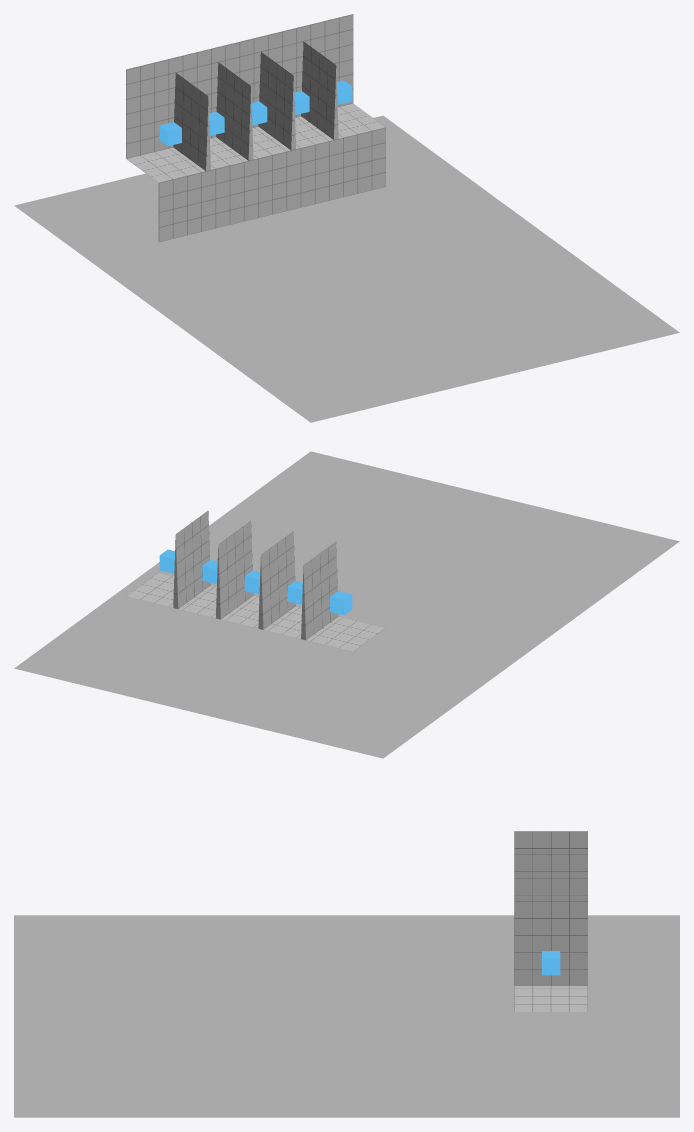
The picture shows the model from 3 angles, top to bottom: view 1: azimuth 30°, elevation 25°; view 2: azimuth 150°, elevation 25°; view 3: azimuth 270°, elevation 25°; orthographic projection. The views are drawn at different scales.
Visible parts, largest first — view 1: floor, MeterGrid; view 2: floor, MeterGrid, Cube1; view 3: floor, MeterGrid.
Part boxes in pixels (x1=…): floor: x1=14, y1=115, x2=679, y2=422; MeterGrid: x1=126, y1=14, x2=385, y2=241; floor: x1=14, y1=451, x2=679, y2=758; MeterGrid: x1=126, y1=511, x2=385, y2=651; Cube1: x1=330, y1=591, x2=352, y2=615; floor: x1=14, y1=915, x2=679, y2=1117; MeterGrid: x1=514, y1=831, x2=587, y2=1011.
Bounding box in the file's own units: 26 × 10.01 × 36.2.
Materials: 7 (1 with a texture image).
